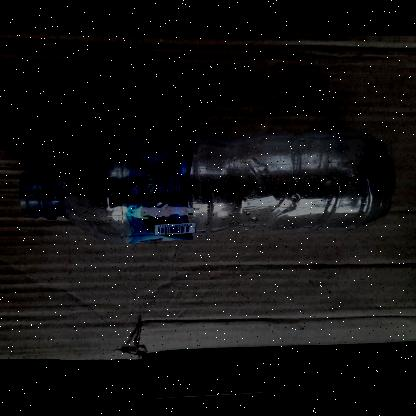Plastic Bottle: (19, 134, 396, 242)
